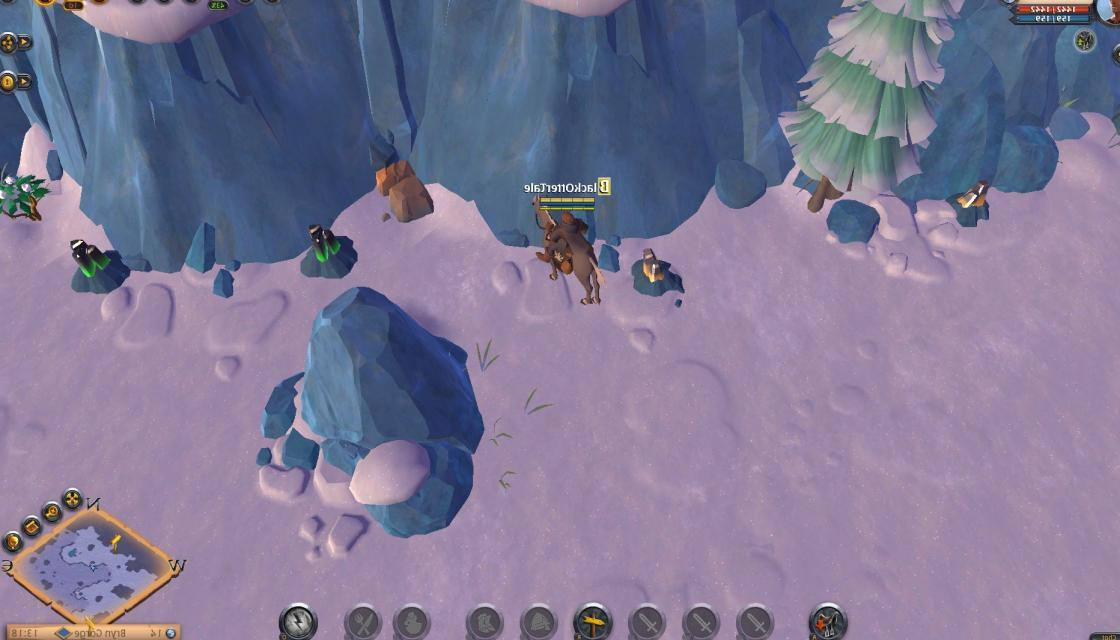copperore: (633, 247, 686, 301), (953, 179, 996, 223), (1107, 90, 1120, 139)
limestone: (372, 156, 440, 225)
tinore: (69, 233, 134, 295), (300, 218, 359, 282)
